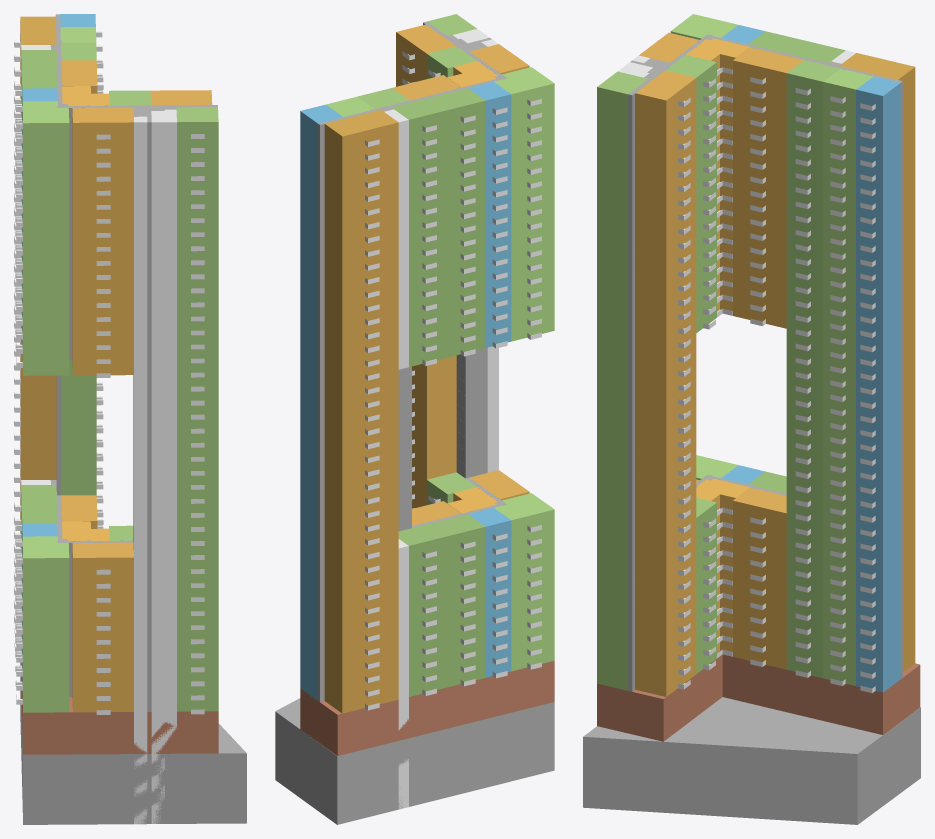
File: option3.gltf
3 views of the same model, side by side, from view 1: azimuth 30°, elevation 25°; view 2: azimuth 150°, elevation 25°; view 3: azimuth 270°, elevation 25° (orthographic). The views are drawn at different scales.
Size of the model in its own units: 53.3 by 175 by 75.42.
